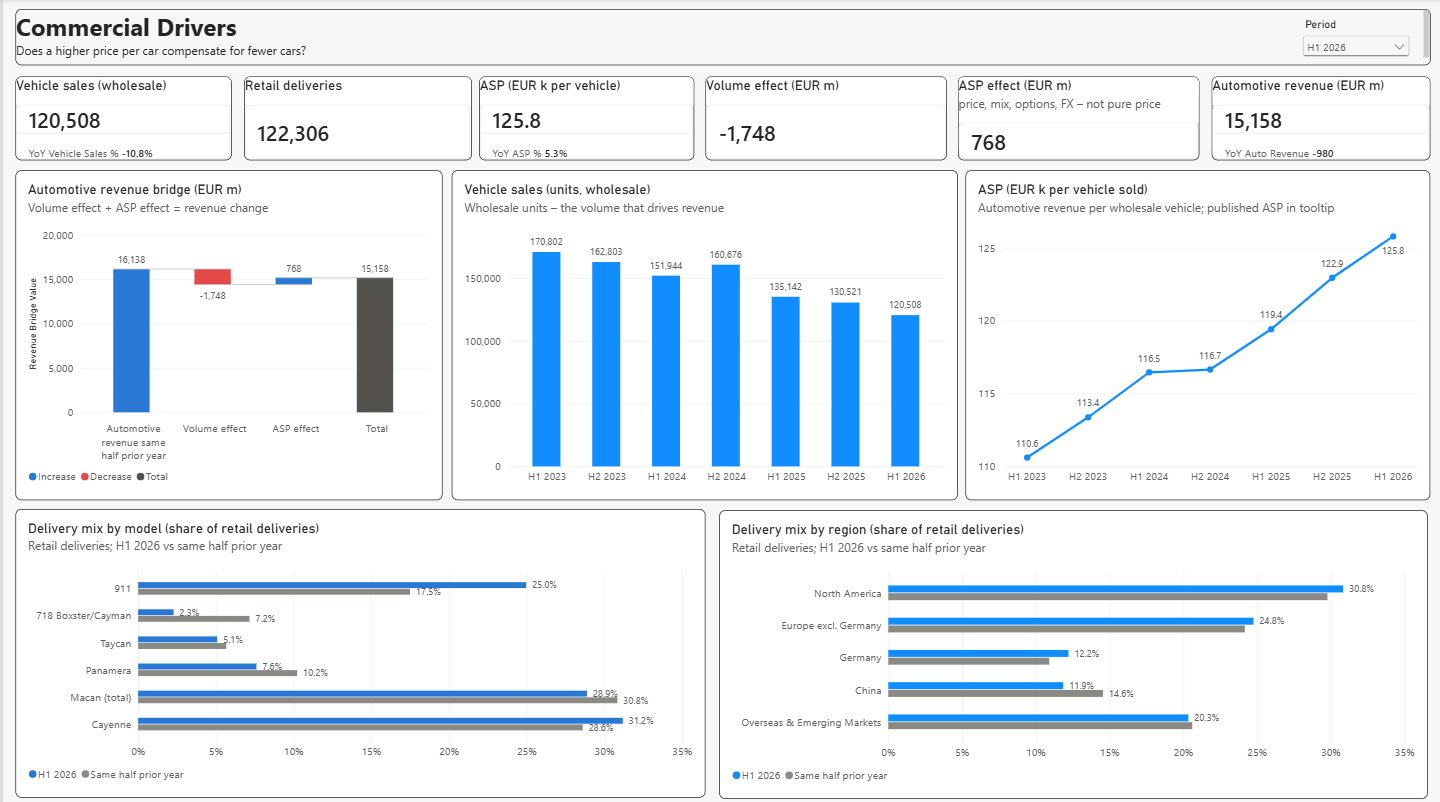

Layout of this report page (visuals, bound fields, positions):
{"tool":"powerbi","page":{"name":"4 Commercial Drivers","canvas":[1920,1080],"ordinal":3},"visuals":[{"type":"textbox","box":[16.7,13.4,1890.2,75.1],"z":0},{"type":"cardVisual","title":"Vehicle sales (wholesale)","fields":{"Data":["FactHalfYear.Vehicle Sales"]},"box":[16.7,103.5,288.9,111.9],"z":1000},{"type":"cardVisual","title":"Retail deliveries","fields":{"Data":["FactHalfYear.Retail Deliveries"]},"box":[322.3,103.5,303.9,111.9],"z":2000},{"type":"cardVisual","title":"ASP (EUR k per vehicle)","fields":{"Data":["FactHalfYear.ASP (EUR k)"]},"box":[636.2,103.5,287.2,111.9],"z":3000},{"type":"cardVisual","title":"Volume effect (EUR m)","fields":{"Data":["FactHalfYear.Volume Effect (SQL)"]},"box":[938.4,103.5,322.3,111.9],"z":4000},{"type":"cardVisual","title":"ASP effect (EUR m)","fields":{"Data":["FactHalfYear.ASP Effect (SQL)"]},"box":[1275.7,103.5,322.3,111.9],"z":5000},{"type":"cardVisual","title":"Automotive revenue (EUR m)","fields":{"Data":["FactHalfYear.Auto Revenue"]},"box":[1614.7,103.5,292.2,111.9],"z":6000},{"type":"waterfallChart","title":"Automotive revenue bridge (EUR m)","fields":{"Category":["DimRevenueStep.rstep_name"],"Y":["FactHalfYear.Revenue Bridge Value"]},"box":[16.7,228.8,570.7,440.6],"z":7000},{"type":"clusteredColumnChart","title":"Vehicle sales (units, wholesale)","fields":{"Category":["DimPeriod.period_label"],"Y":["FactHalfYear.Vehicle Sales"]},"box":[599.4,228.8,676.3,440.8],"z":8000},{"type":"lineChart","title":"ASP (EUR k per vehicle sold)","fields":{"Category":["DimPeriod.period_label"],"Y":["FactHalfYear.ASP (EUR k)"]},"box":[1285.7,228.8,621.2,440.8],"z":9000},{"type":"clusteredBarChart","title":"Delivery mix by model (share of retail deliveries)","fields":{"Category":["FactDeliveryMix.member_name"],"Y":["FactDeliveryMix.Mix Share","FactDeliveryMix.Mix Share PY"]},"box":[16.7,681.3,921.7,385.7],"z":10000},{"type":"clusteredBarChart","title":"Delivery mix by region (share of retail deliveries)","fields":{"Category":["FactDeliveryMix.member_name"],"Y":["FactDeliveryMix.Mix Share","FactDeliveryMix.Mix Share PY"]},"box":[956.8,682.9,946.8,385.7],"z":11000},{"type":"slicer","fields":{"Values":["DimPeriod.period_label"]},"box":[1731.5,25,151.9,55.1],"z":12000}]}

Visuals, with their boxes in screenshot pixels (x1, y1, x2, y2), scaled from the page's 1920x1080 canvas onto the 1440x802 screenshot:
textbox: bbox=[13, 10, 1430, 66]
"Vehicle sales (wholesale)" cardVisual: bbox=[13, 77, 229, 160]
"Retail deliveries" cardVisual: bbox=[242, 77, 470, 160]
"ASP (EUR k per vehicle)" cardVisual: bbox=[477, 77, 693, 160]
"Volume effect (EUR m)" cardVisual: bbox=[704, 77, 946, 160]
"ASP effect (EUR m)" cardVisual: bbox=[957, 77, 1198, 160]
"Automotive revenue (EUR m)" cardVisual: bbox=[1211, 77, 1430, 160]
"Automotive revenue bridge (EUR m)" waterfallChart: bbox=[13, 170, 441, 497]
"Vehicle sales (units, wholesale)" clusteredColumnChart: bbox=[450, 170, 957, 497]
"ASP (EUR k per vehicle sold)" lineChart: bbox=[964, 170, 1430, 497]
"Delivery mix by model (share of retail deliveries)" clusteredBarChart: bbox=[13, 506, 704, 792]
"Delivery mix by region (share of retail deliveries)" clusteredBarChart: bbox=[718, 507, 1428, 794]
slicer - DimPeriod.period_label: bbox=[1299, 19, 1413, 59]
